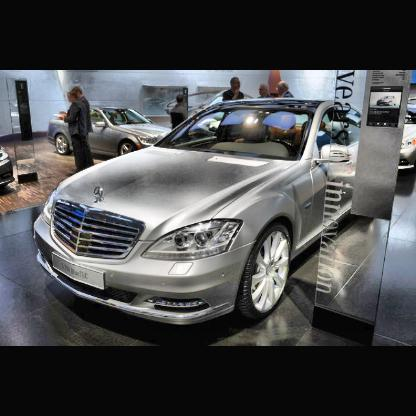Mercedes-Benz S-Class Sedan 2012: (33, 96, 368, 330)
